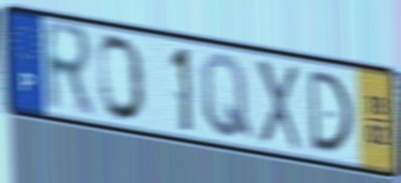1: (168, 44, 195, 135)
D: (306, 68, 355, 156)
O: (96, 32, 148, 125)
Q: (198, 50, 256, 144)
R: (41, 16, 97, 122)
X: (253, 55, 304, 154)
